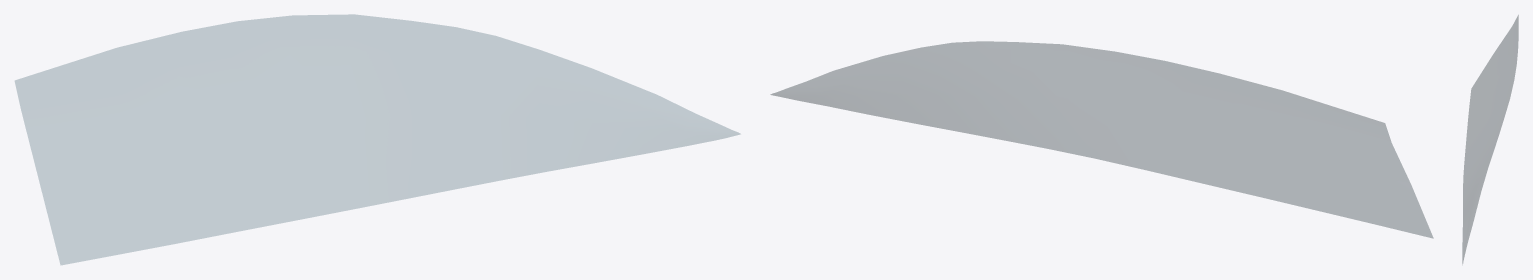
The picture shows the model from 3 angles, left to right: view 1: azimuth 30°, elevation 25°; view 2: azimuth 150°, elevation 25°; view 3: azimuth 270°, elevation 25°; orthographic projection. The views are drawn at different scales.
Visible parts, largest first — view 1: SM_MercedesCCC_Door_FR_Glass_Ext2; view 2: SM_MercedesCCC_Door_FR_Glass_Ext2; view 3: SM_MercedesCCC_Door_FR_Glass_Ext2.
Boxes of the visible parts, x1,y1,x2,y2 form: SM_MercedesCCC_Door_FR_Glass_Ext2: (15, 14, 740, 264); SM_MercedesCCC_Door_FR_Glass_Ext2: (770, 41, 1433, 238); SM_MercedesCCC_Door_FR_Glass_Ext2: (1462, 15, 1518, 263).
Size of the model in its own units: 1.17 by 0.3083 by 0.1708.
